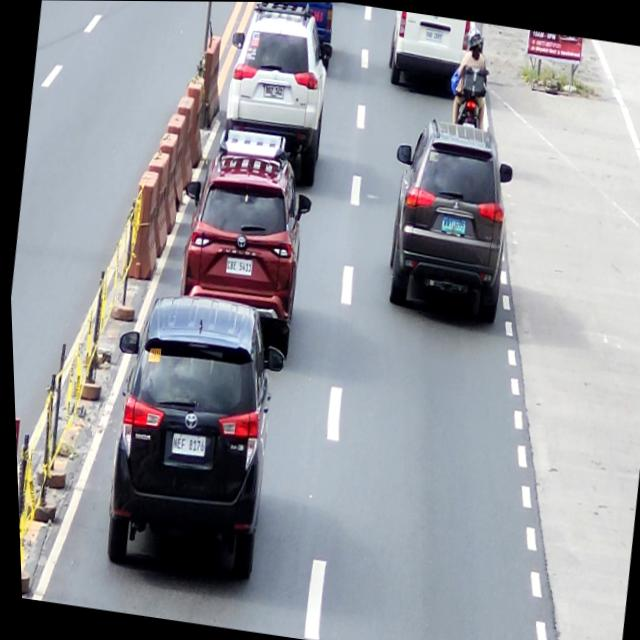Car: (85, 283, 295, 585), (161, 124, 323, 360), (373, 112, 522, 323), (212, 1, 339, 186), (384, 9, 485, 96), (253, 1, 340, 75)
License-Plate: (165, 429, 206, 459), (221, 254, 253, 277), (438, 213, 466, 236), (261, 81, 285, 100), (423, 27, 445, 44)
Motorcycle: (450, 63, 491, 129)
